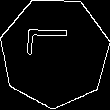L_E: (29, 36, 80, 69)
